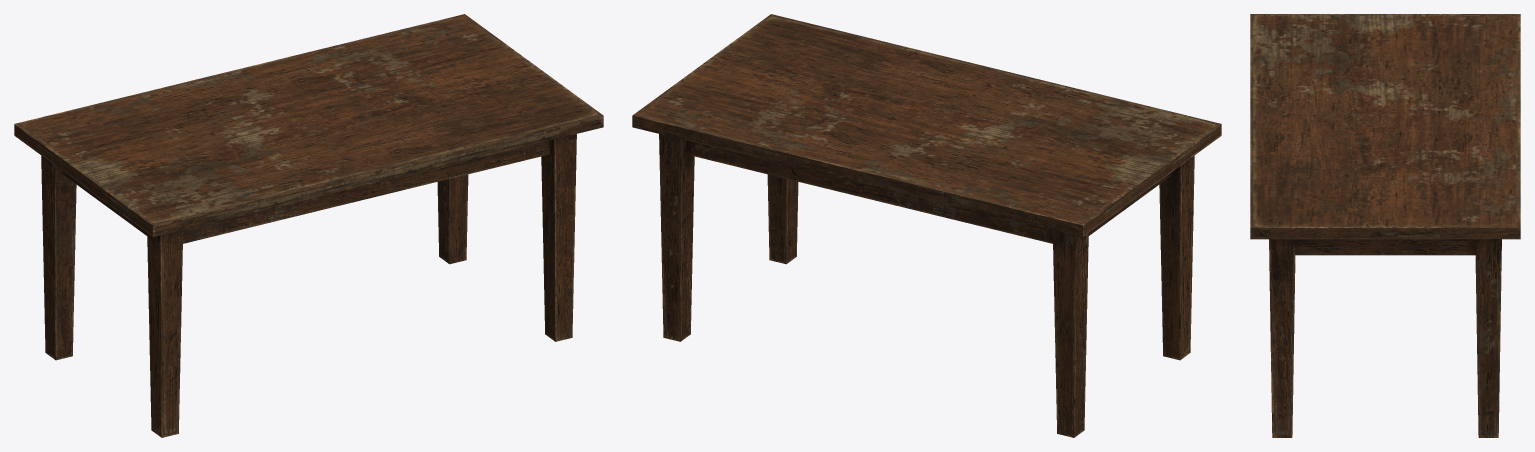
File: Table.fbx
3 renders of one model, left to right at view 1: azimuth 30°, elevation 25°; view 2: azimuth 150°, elevation 25°; view 3: azimuth 270°, elevation 25°, orthographic. The views are drawn at different scales.
Parts seen in each view (by area): view 1: Table; view 2: Table; view 3: Table.
Boxes of the visible parts, x1,y1,x2,y2 form: Table: [14, 14, 603, 437]; Table: [632, 14, 1221, 437]; Table: [1250, 14, 1520, 437].
Bounding box in the file's own units: 171 × 81.97 × 91.42.
Materials: 1 (1 with a texture image).
